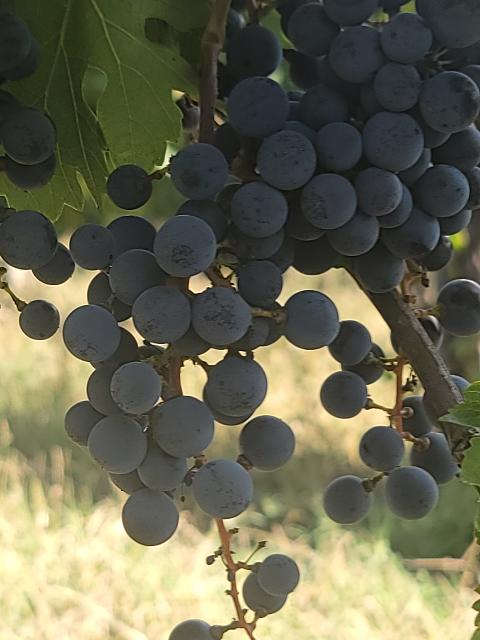grapes: (63, 142, 340, 545), (280, 0, 480, 522), (228, 0, 480, 290), (285, 0, 480, 299)
